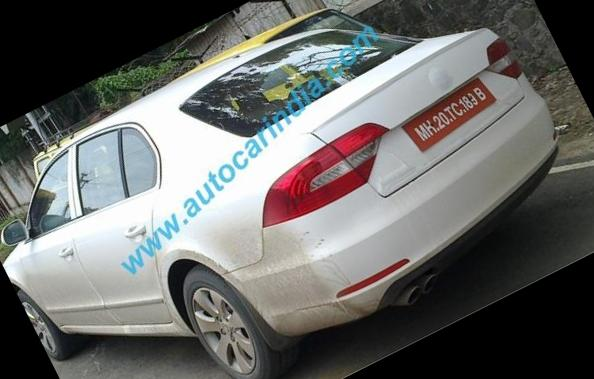plate: (386, 64, 519, 161)
